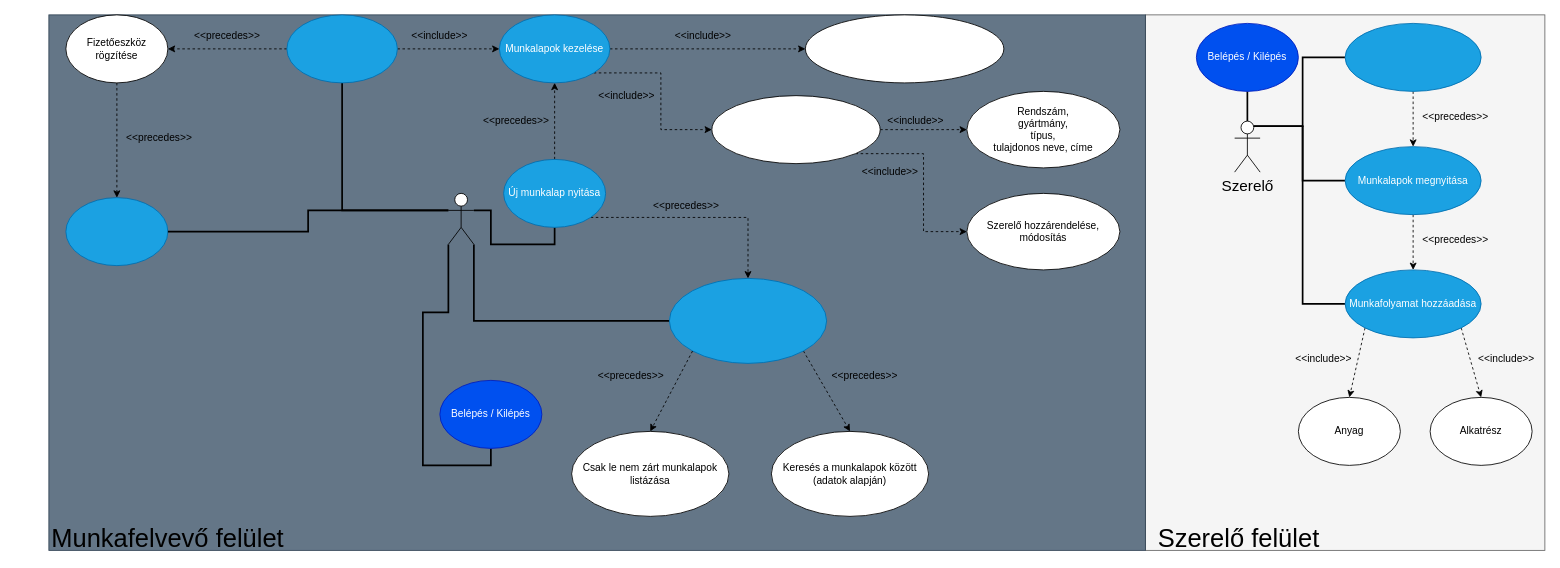
Image size: 1560x568. Some labels were removed from this diagram. The centre of each missing label's shape, as x and y in pixels:
"Gépjármű, és tulajdonos adatok felvétele" belongs at pixel 795 129.
"Lezárás" belongs at pixel 341 48.
"Munkafelvevő" belongs at pixel 461 218.
"Munkafelvevő nevének megadása, felvétel időpontja" belongs at pixel 904 48.
"Munkalap nyomtatása" belongs at pixel 116 231.
"Munkalapok lekérdezése" belongs at pixel 748 320.
"Munkalapok listázása" belongs at pixel 1412 57.
